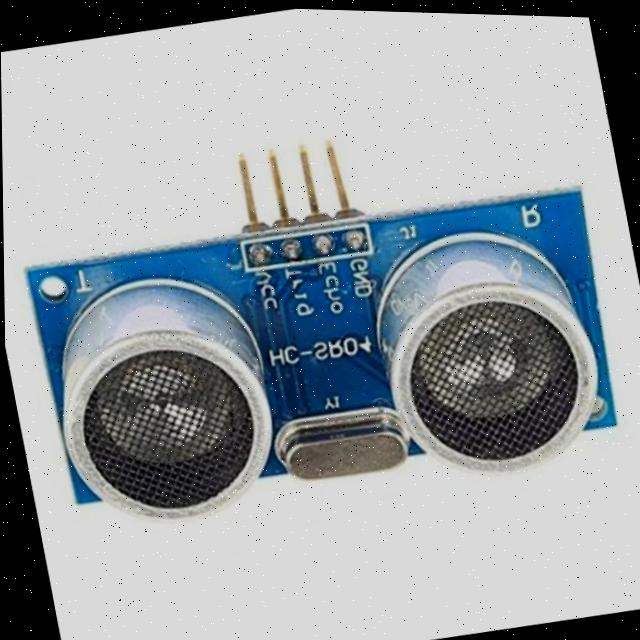Ultrasonic Sensor: (2, 84, 632, 543)
